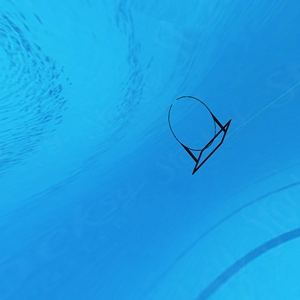circle: (167, 94, 232, 179)
